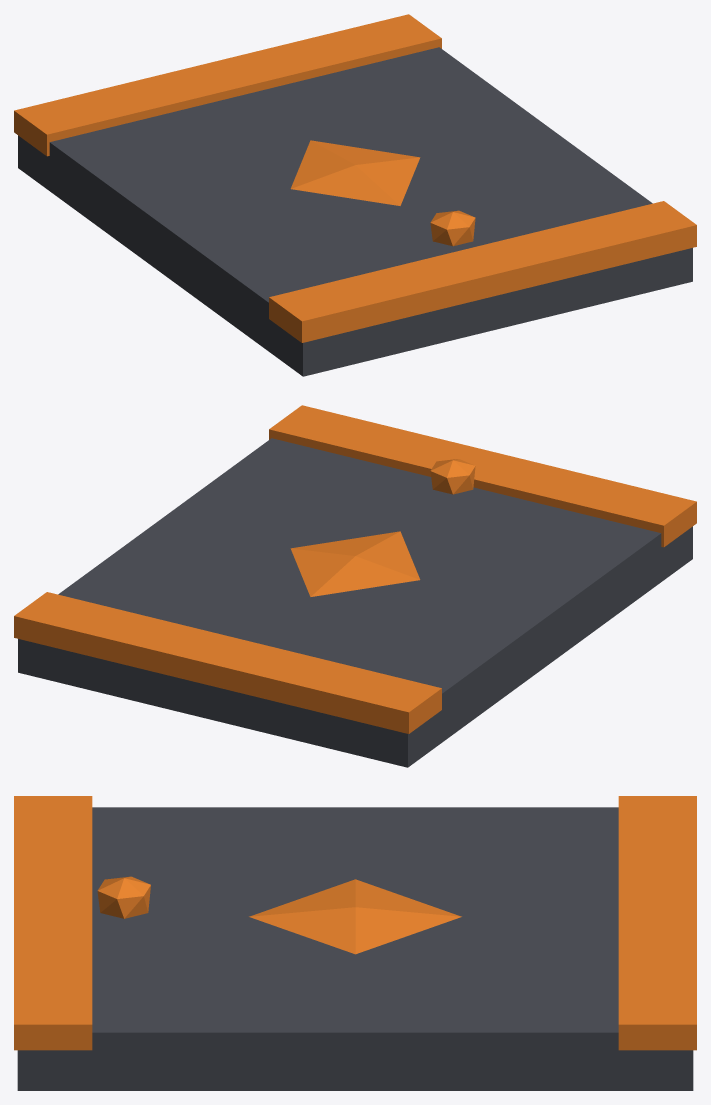
File: drop_cape_smithing.glb
3 views of the same model, one above another, from view 1: azimuth 30°, elevation 25°; view 2: azimuth 150°, elevation 25°; view 3: azimuth 270°, elevation 25° (orthographic). The views are drawn at different scales.
Visible parts, largest first — view 1: drop_cape_smithing; view 2: drop_cape_smithing; view 3: drop_cape_smithing.
Part boxes in pixels (x1,y1,x2,y2): drop_cape_smithing: [14, 14, 696, 376]; drop_cape_smithing: [14, 405, 696, 767]; drop_cape_smithing: [14, 796, 696, 1090].
Size of the model in its own units: 0.304 by 0.062 by 0.384.
